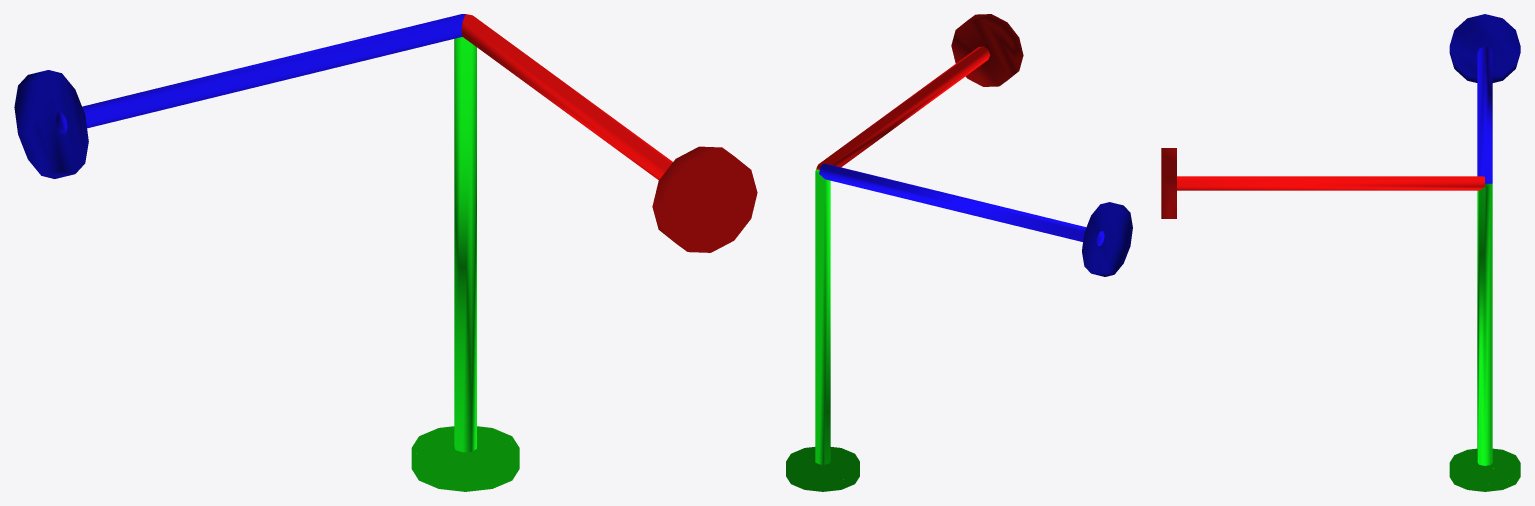
Rendered from GizmoAxisRotate.obj.
3 renders of one model, left to right at view 1: azimuth 30°, elevation 25°; view 2: azimuth 150°, elevation 25°; view 3: azimuth 270°, elevation 25°, orthographic. The views are drawn at different scales.
Visible parts, largest first — view 1: GizmoScale; view 2: GizmoScale; view 3: GizmoScale.
Part boxes in pixels (left/top/right/bottom): GizmoScale: left=14, top=14, right=757, bottom=491; GizmoScale: left=786, top=14, right=1132, bottom=491; GizmoScale: left=1161, top=14, right=1520, bottom=491.
Bounding box in the file's own units: 4.57 × 4.59 × 4.58.
